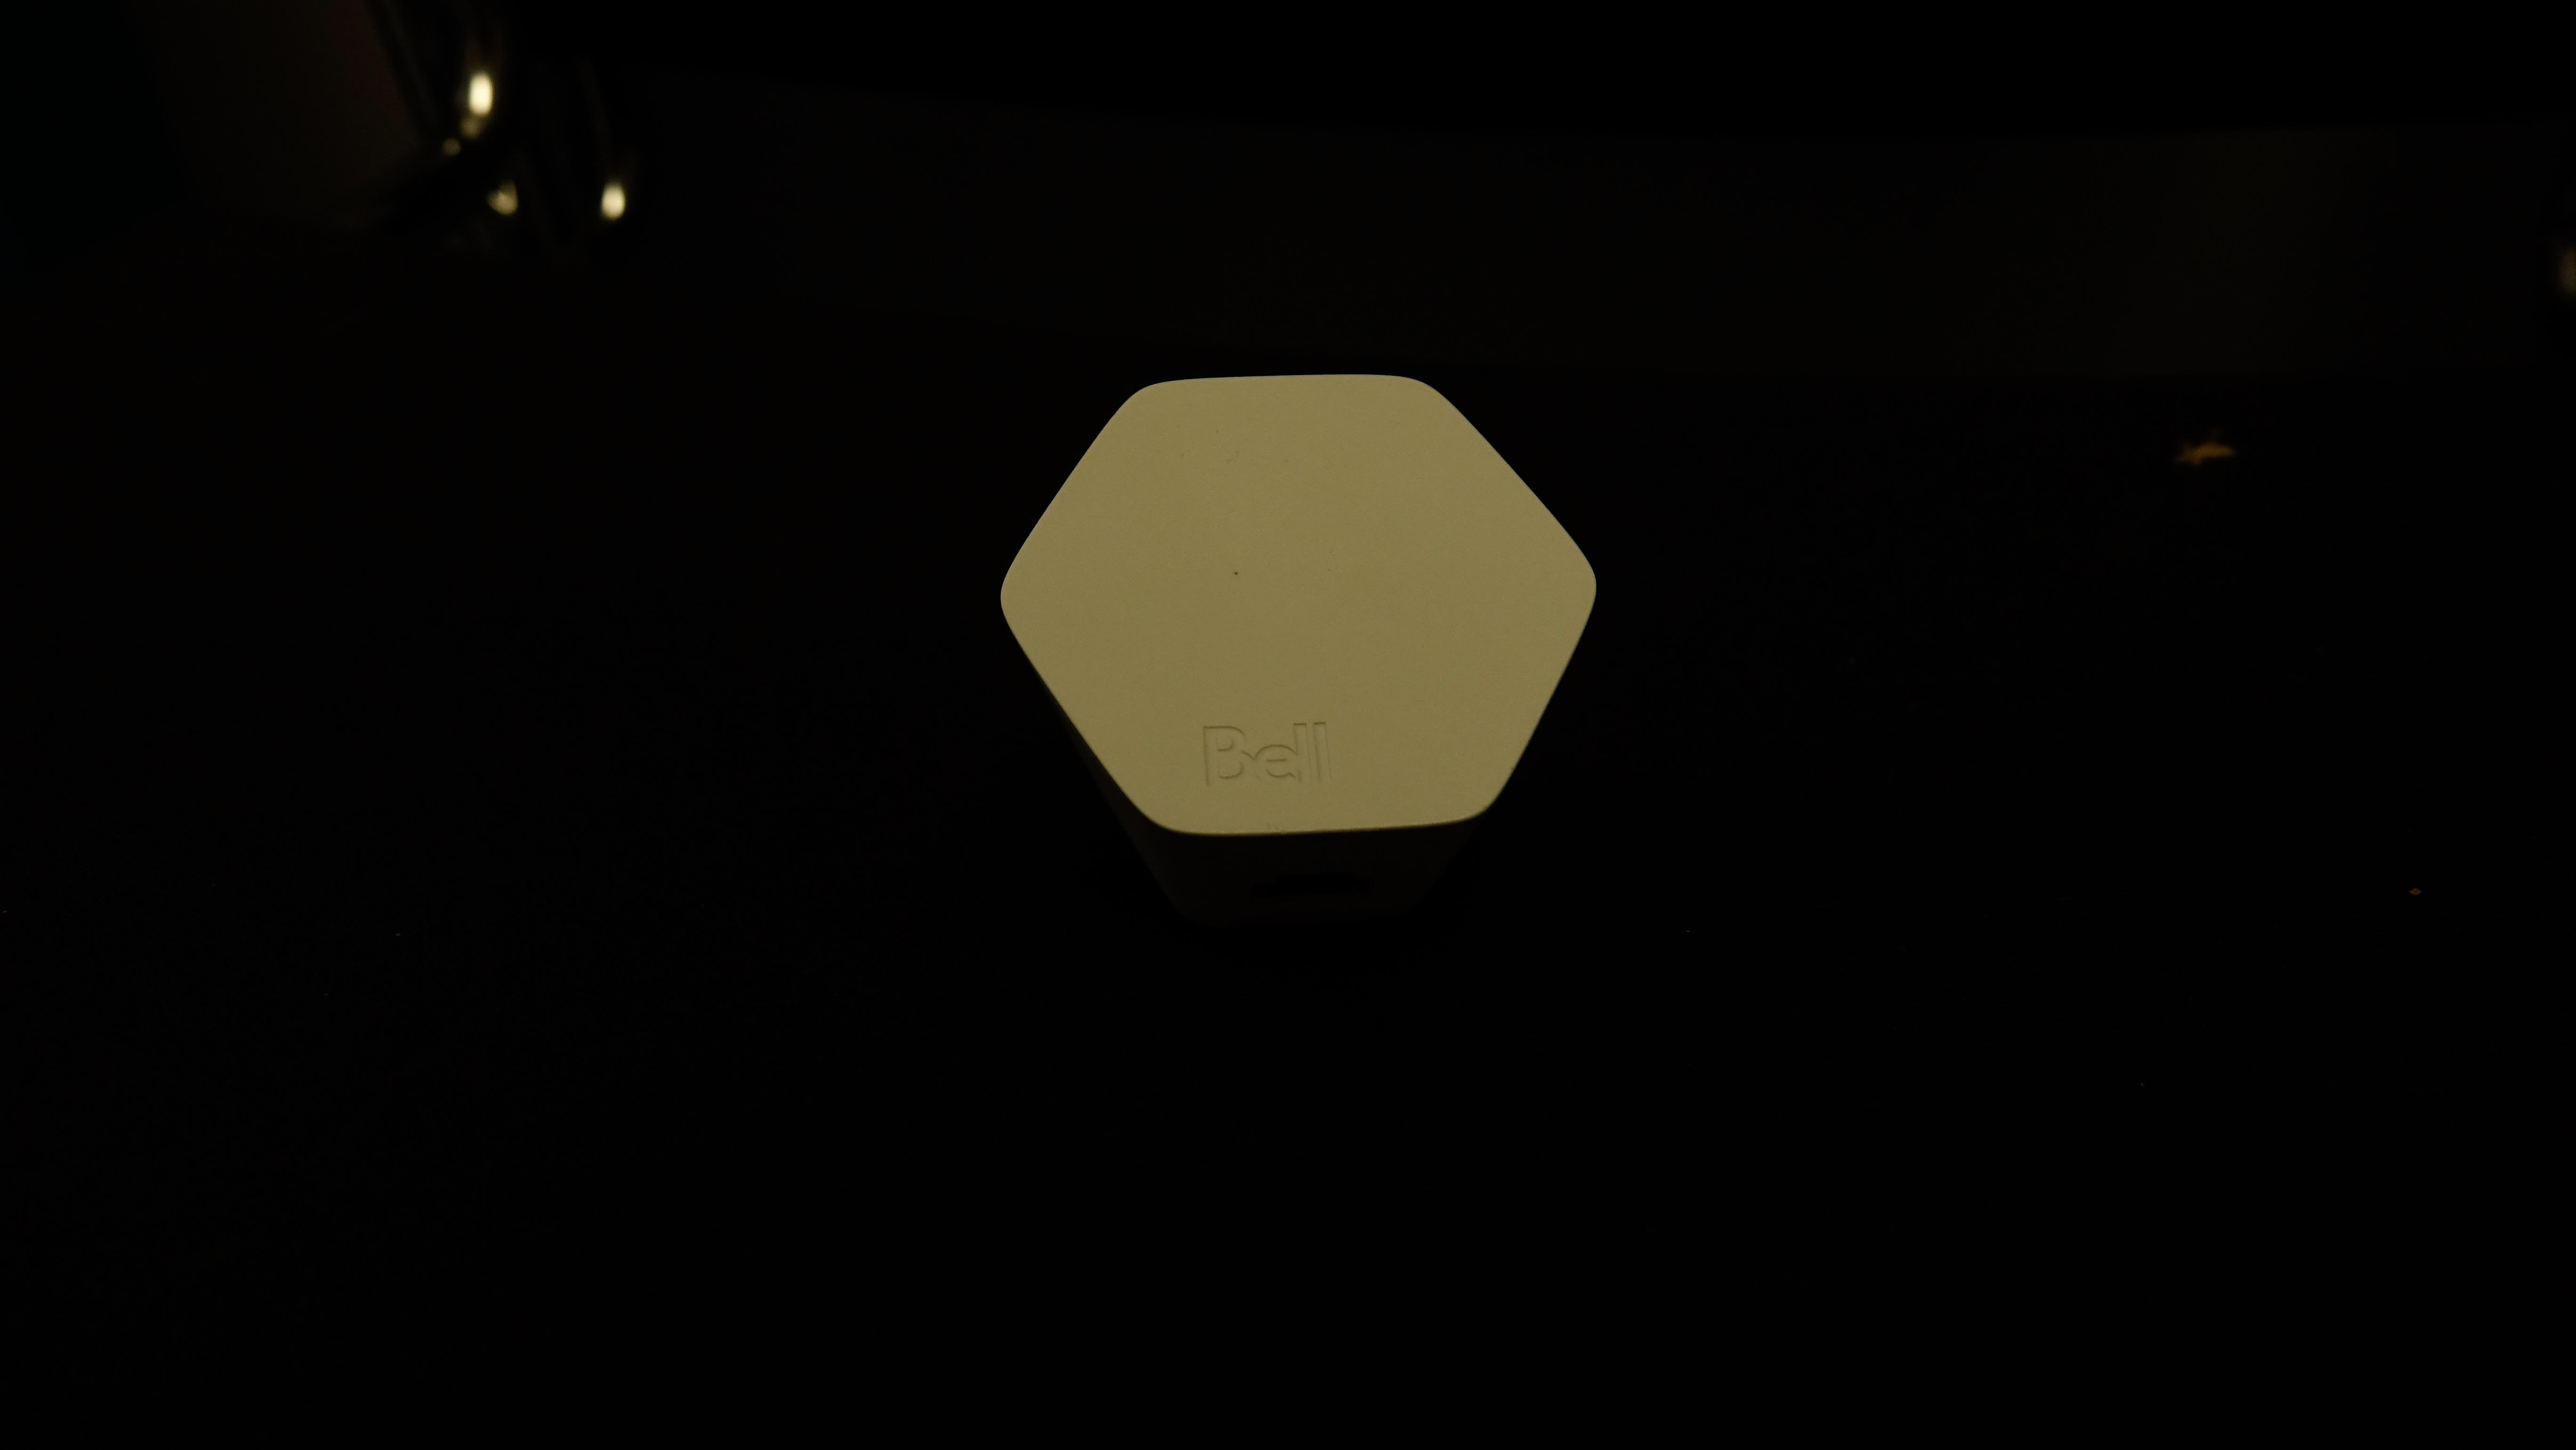pod: (987, 362, 1615, 934)
